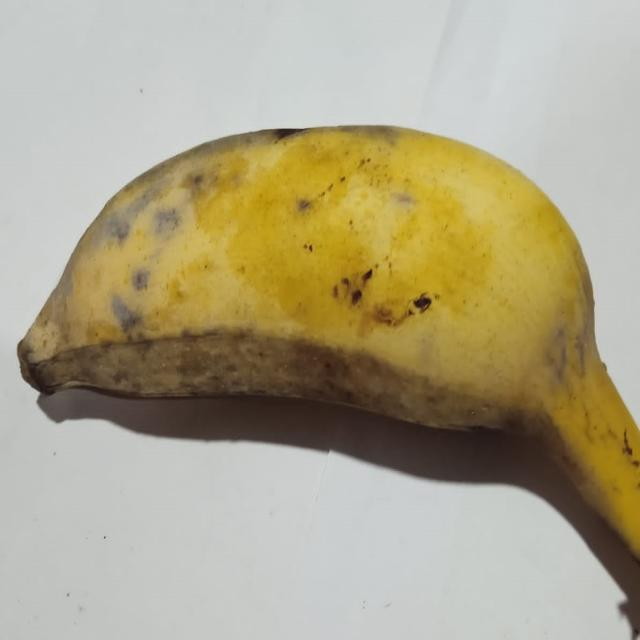banana: (19, 128, 639, 558)
